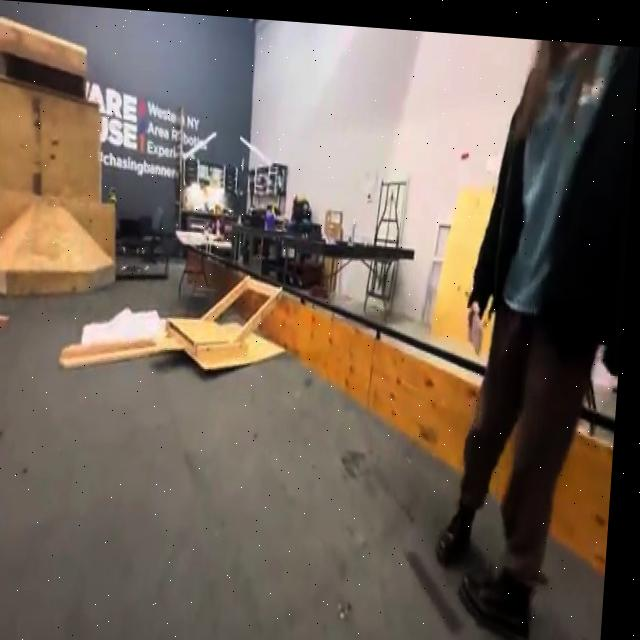note: (0, 415, 2, 468)
